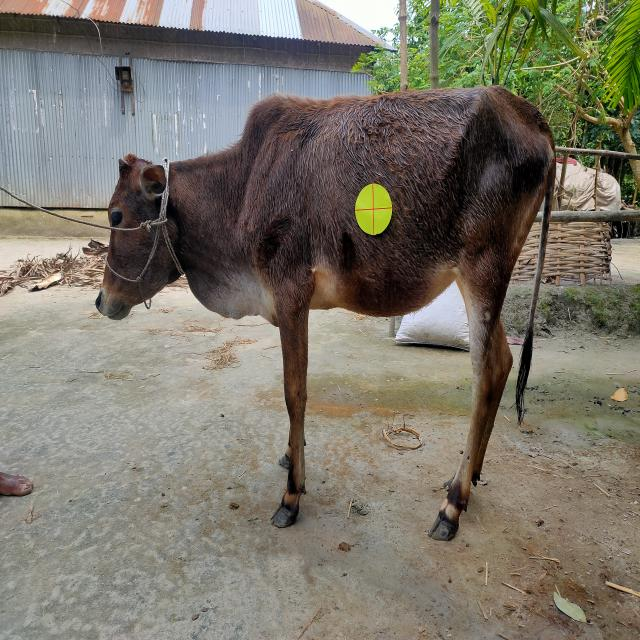badan_sapi: (242, 90, 552, 324)
sapi: (88, 77, 563, 565)
